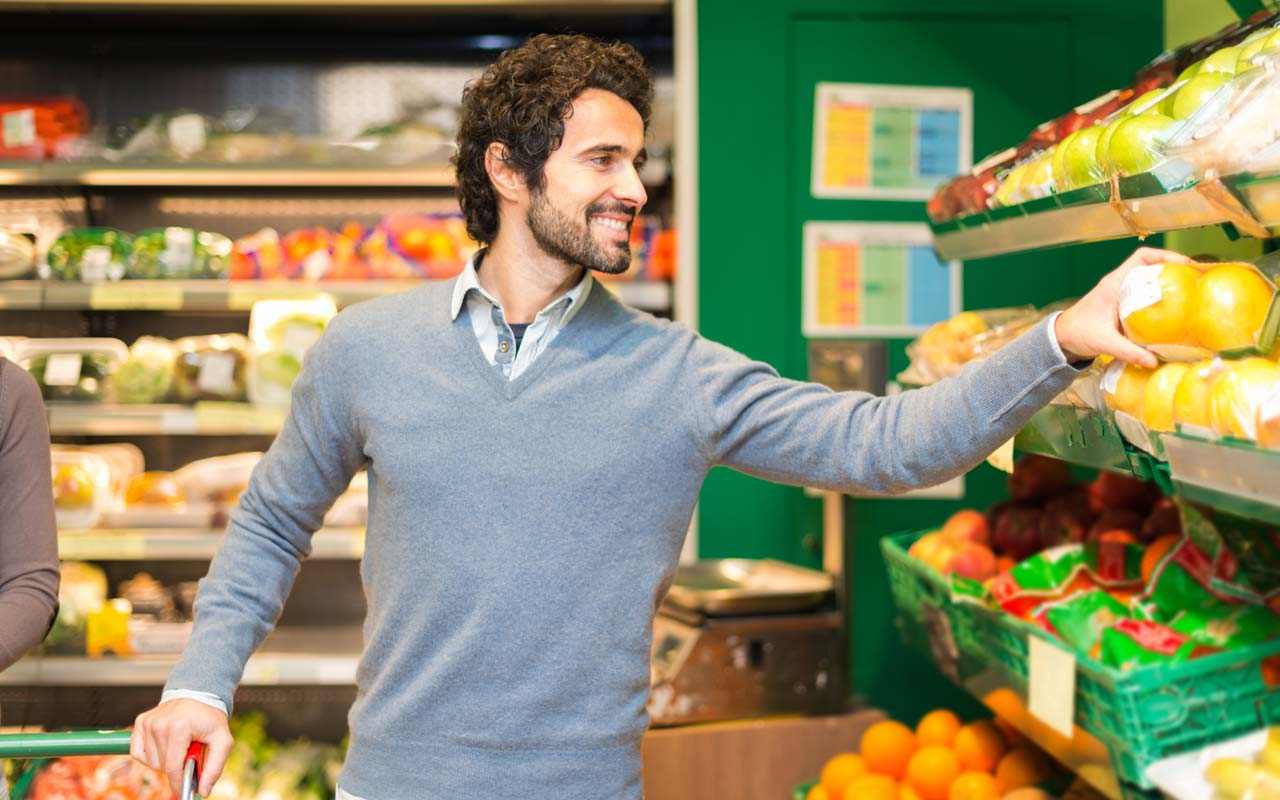Emotion_Happy: (445, 39, 654, 291)
